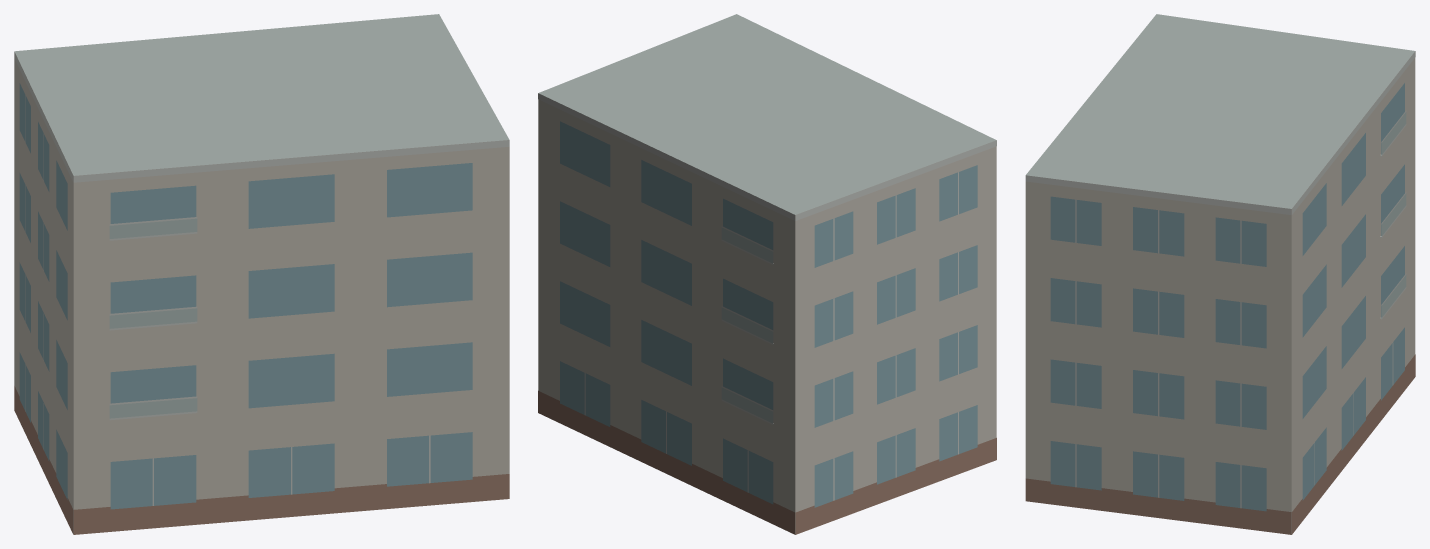
File: survey-upis-33015396.glb
3 renders of one model, left to right at view 1: azimuth 30°, elevation 25°; view 2: azimuth 150°, elevation 25°; view 3: azimuth 270°, elevation 25°, orthographic. The views are drawn at different scales.
Visible parts, largest first — view 1: survey-upis-33015396.tmp; view 2: survey-upis-33015396.tmp; view 3: survey-upis-33015396.tmp.
Boxes of the visible parts, <box> form: survey-upis-33015396.tmp: <box>14,14,509,534</box>; survey-upis-33015396.tmp: <box>538,14,996,534</box>; survey-upis-33015396.tmp: <box>1025,14,1415,534</box>.
Bounding box in the file's own units: 16.43 × 12.8 × 13.89.
